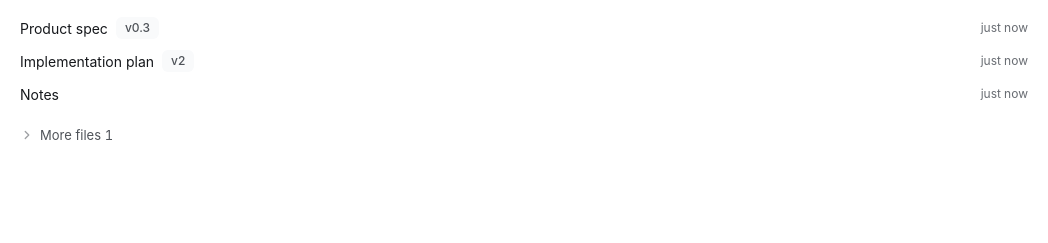
Test: Docs tab › a document too big to show says so
Click the button "Notes just now": (39, 94) [12,78,1036,110]
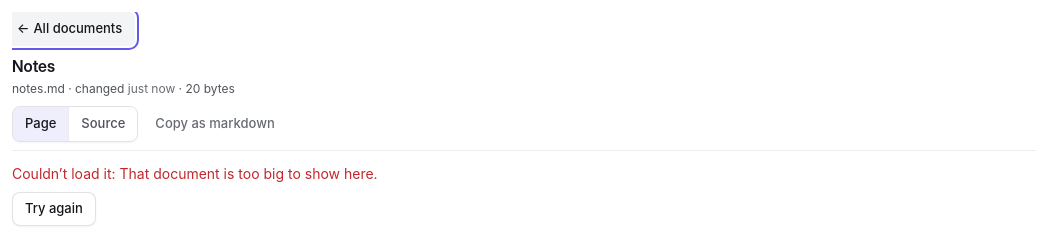
Result: the message reads "Couldn’t load it: That document is too big to show here." at [12,165,378,182]
